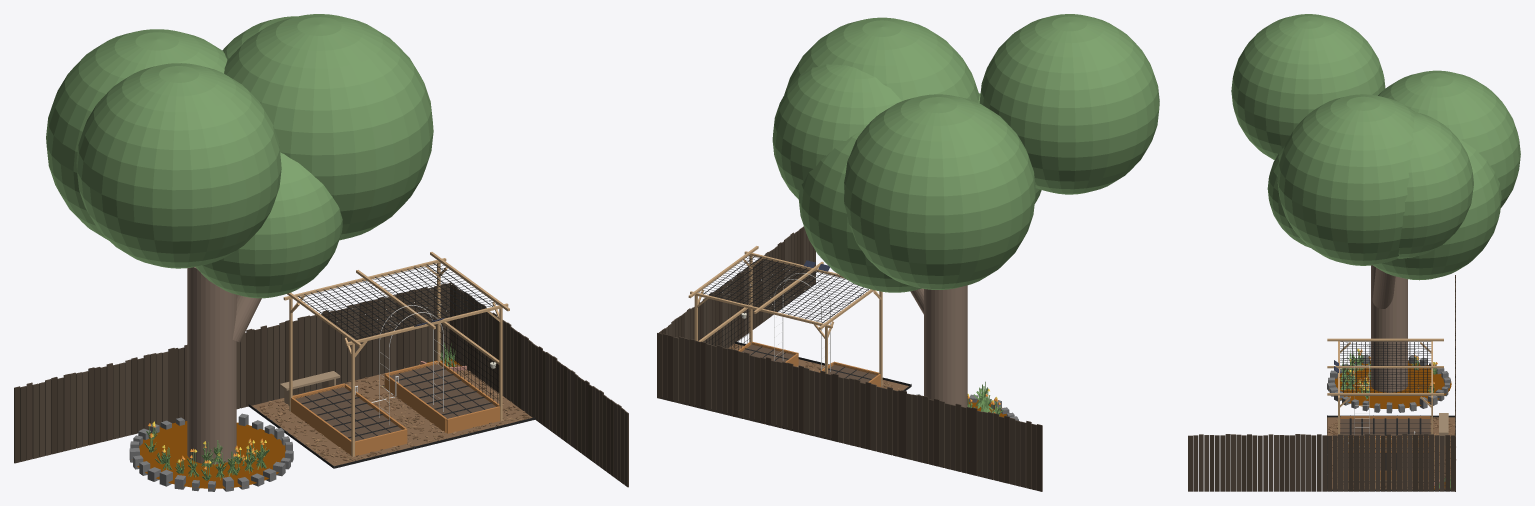
Rendered from Sprig3D.glb.
3 views of the same model, side by side, from view 1: azimuth 30°, elevation 25°; view 2: azimuth 150°, elevation 25°; view 3: azimuth 270°, elevation 25° (orthographic). The views are drawn at different scales.
Parts seen in each view (by area): view 1: Tree_Canopy_4, Tree_Canopy_0, Tree_Canopy_1, Tree_Canopy_5, Tree_Trunk, Ground_15x11ft, TreeGround, WireMeshGrid, BedRight_Soil, BedLeft_Soil, BedRight_Wall_Left, BedLeft_Wall_Left (+6 smaller); view 2: Tree_Canopy_5, Tree_Canopy_4, Tree_Canopy_0, Tree_Canopy_3, Tree_Canopy_2, Tree_Trunk, WireMeshGrid; view 3: Tree_Canopy_0, Tree_Canopy_4, Tree_Canopy_3, Tree_Canopy_5, Tree_Canopy_2, Tree_Trunk, WireMeshGrid, TreeGround, BedLeft_Soil, Tree_Canopy_1, Ground_15x11ft, Tree_Trunk_B (+2 smaller).
Part boxes in pixels (x1,y1,x2,y2): Tree_Canopy_4: (76,63,281,268); Tree_Canopy_0: (224,14,433,240); Tree_Canopy_1: (195,152,342,298); Tree_Canopy_5: (46,29,227,240); Tree_Trunk: (187,267,236,464); Ground_15x11ft: (251,364,532,465); TreeGround: (132,421,285,488); WireMeshGrid: (298,262,497,339); BedRight_Soil: (389,364,496,418); BedLeft_Soil: (295,387,402,441); BedRight_Wall_Left: (385,374,446,432); BedLeft_Wall_Left: (291,397,351,455); Tree_Canopy_5: (844,94,1035,289); Tree_Canopy_4: (979,14,1159,194); Tree_Canopy_0: (784,17,979,102); Tree_Canopy_3: (772,64,901,198); Tree_Canopy_2: (798,130,921,292); Tree_Trunk: (924,285,967,407); WireMeshGrid: (698,254,868,323); Tree_Canopy_0: (1277,94,1414,265); Tree_Canopy_4: (1231,14,1385,159); Tree_Canopy_3: (1397,112,1473,258); Tree_Canopy_5: (1378,70,1520,207); Tree_Canopy_2: (1373,139,1501,280); Tree_Trunk: (1371,265,1407,392); WireMeshGrid: (1340,341,1430,395); TreeGround: (1329,360,1451,408); BedLeft_Soil: (1340,419,1430,435); Tree_Canopy_1: (1267,147,1310,247); Ground_15x11ft: (1327,417,1454,489); Tree_Trunk_B: (1372,267,1395,308).
Bounding box in the file's own units: 34.22 × 32.47 × 28.55.
